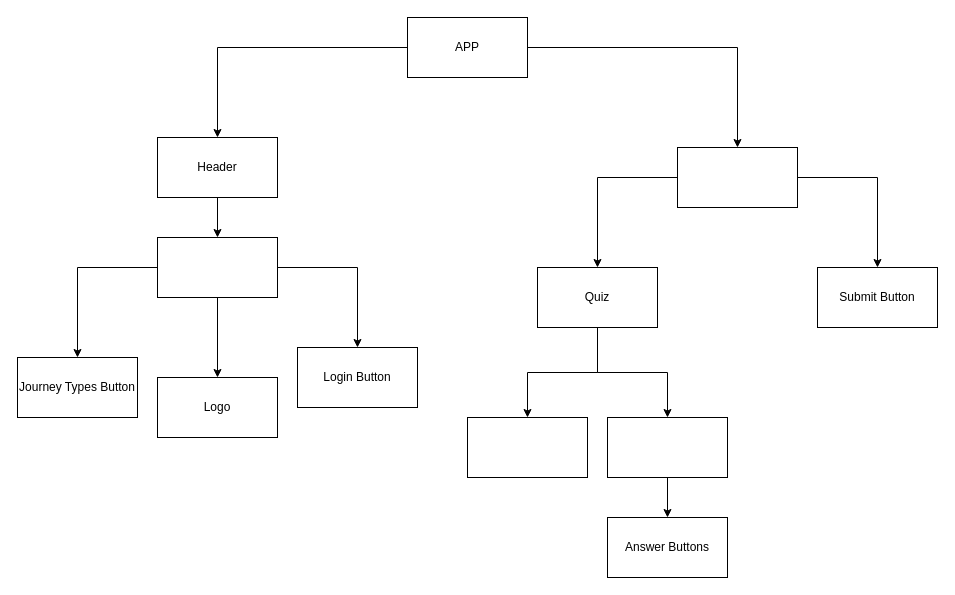
This 955x595 diagram has some shape labels left out. The box of each missing label's shape, as (x1, y1, x2, y2) in pixels:
Answer: (606, 416, 728, 478)
Main: (676, 146, 798, 208)
NavBar: (156, 236, 278, 298)
Question: (466, 416, 588, 478)
